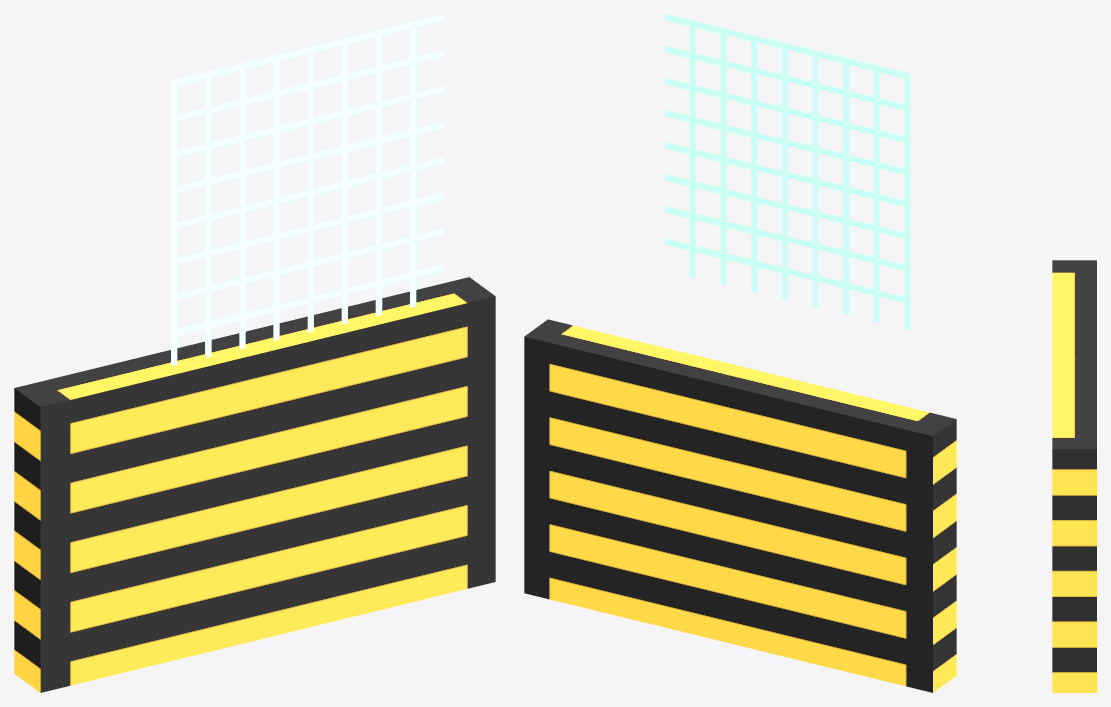
The model's file is panneau_emissif.glb.
The picture shows the model from 3 angles, left to right: view 1: azimuth 30°, elevation 25°; view 2: azimuth 150°, elevation 25°; view 3: azimuth 270°, elevation 25°; orthographic projection. The views are drawn at different scales.
Parts seen in each view (by area): view 1: collideur.003, grille_lumineuse; view 2: collideur.003, grille_lumineuse; view 3: collideur.003.
Part boxes in pixels (x1,y1,x2,y2): collideur.003: (14,277,495,692); grille_lumineuse: (171,14,443,366); collideur.003: (524,319,956,692); grille_lumineuse: (665,14,910,330); collideur.003: (1052,260,1096,692).
Size of the model in its own units: 1 by 1.3 by 0.25.
Materials: 2 (1 with a texture image).
